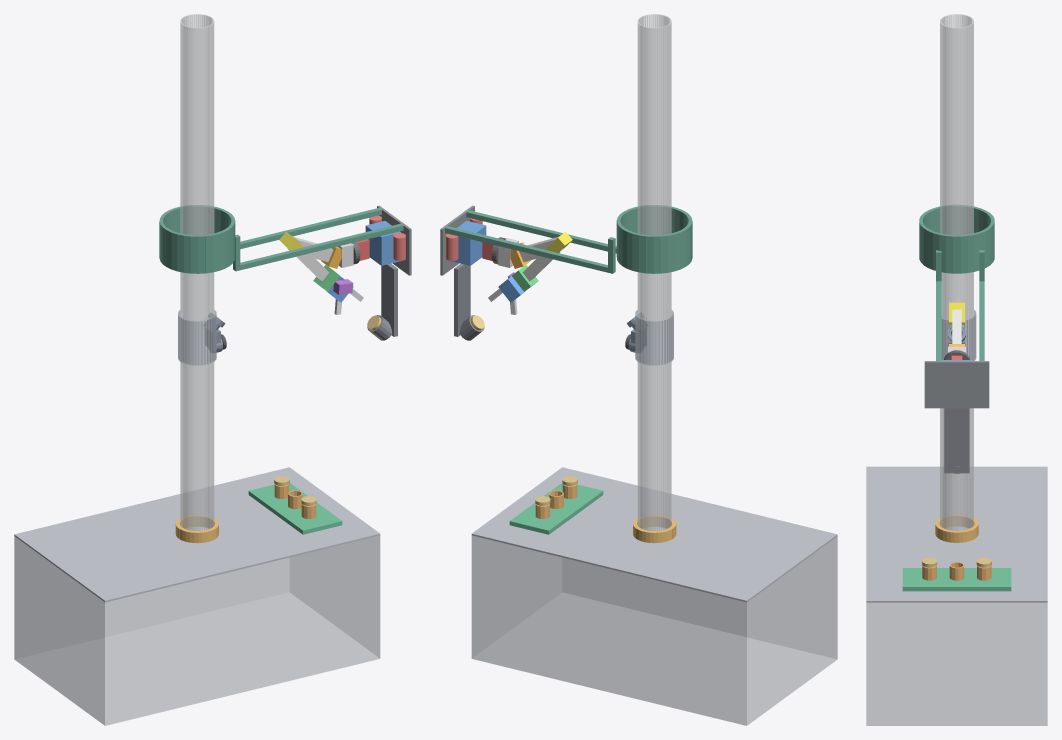
The model's file is transplant-seedling-step3-plug-v2.glb.
3 views of the same model, side by side, from view 1: azimuth 30°, elevation 25°; view 2: azimuth 150°, elevation 25°; view 3: azimuth 270°, elevation 25° (orthographic).
Size of the model in its own units: 0.854 by 1.55 by 0.4.
